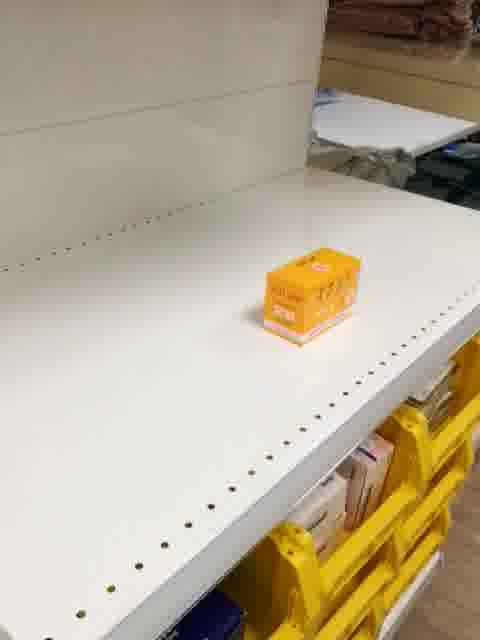jasminetea: (257, 246, 364, 348)
